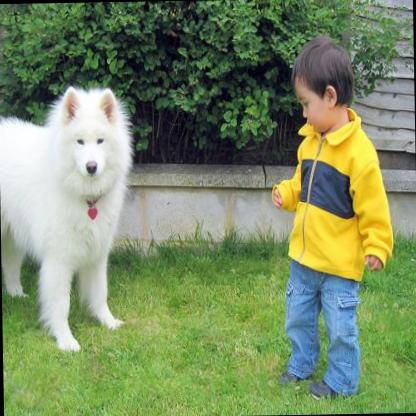Samoyed: (0, 82, 135, 353)
